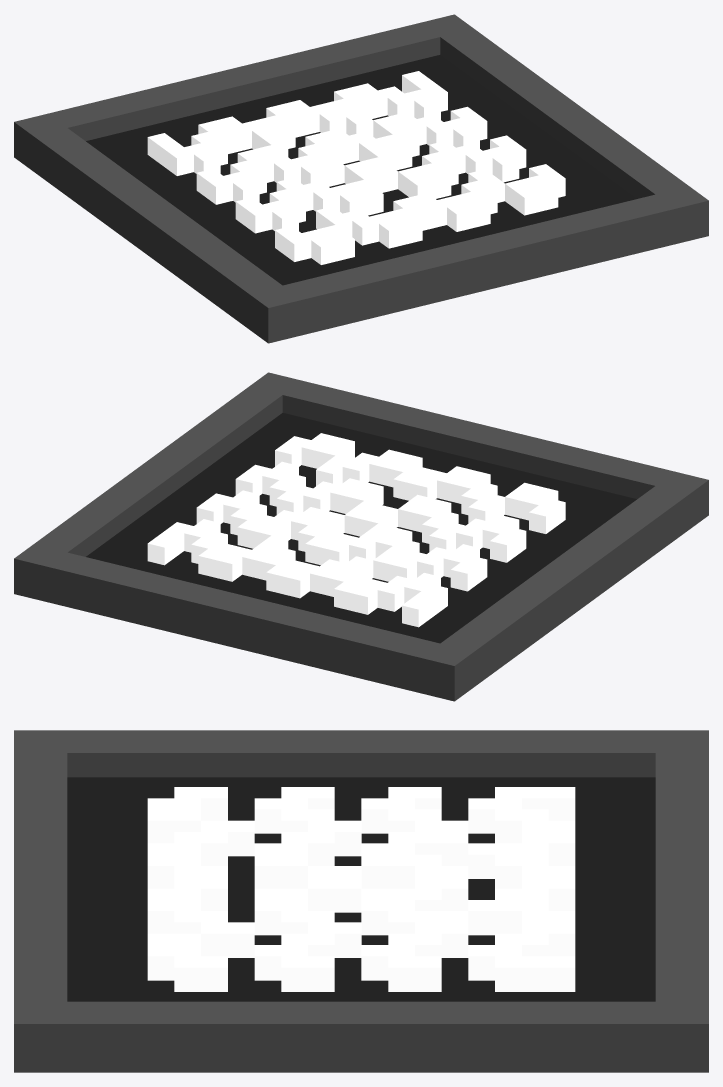
Rendered from trap_WAVES_GREY.glb.
3 views of the same model, one above another, from view 1: azimuth 30°, elevation 25°; view 2: azimuth 150°, elevation 25°; view 3: azimuth 270°, elevation 25° (orthographic). The views are drawn at different scales.
Parts seen in each view (by area): view 1: item_TRAP_WAVES_GREY; view 2: item_TRAP_WAVES_GREY; view 3: item_TRAP_WAVES_GREY.
Boxes of the visible parts, x1,y1,x2,y2 form: item_TRAP_WAVES_GREY: [14, 14, 708, 343]; item_TRAP_WAVES_GREY: [14, 372, 708, 701]; item_TRAP_WAVES_GREY: [14, 730, 708, 1072].
Bounding box in the file's own units: 0.5909 × 0.0455 × 0.5909.
Materials: 1 (1 with a texture image).
